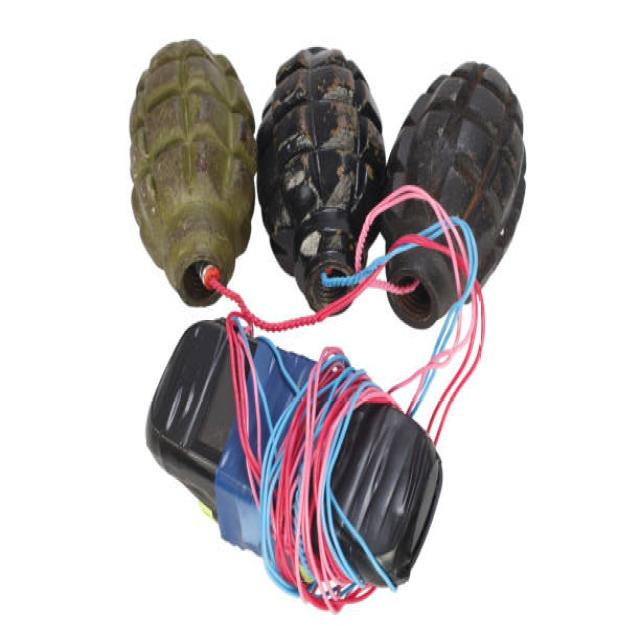grenade: (378, 61, 531, 335), (127, 36, 258, 314)
